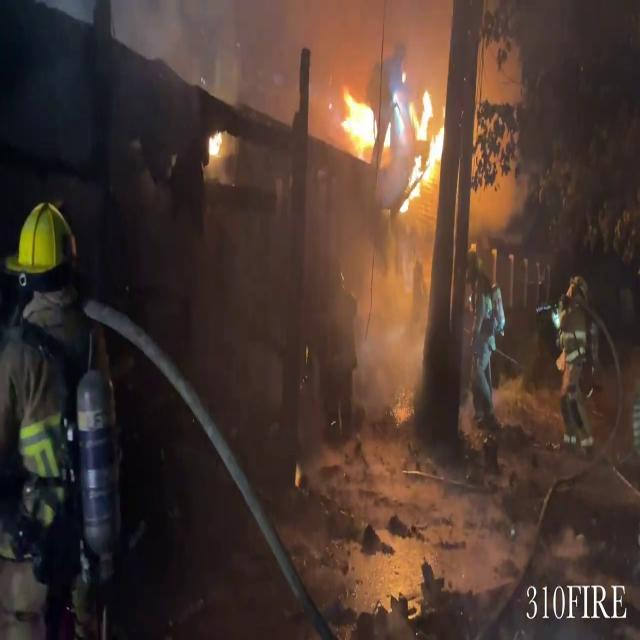Fire: (341, 56, 448, 261)
